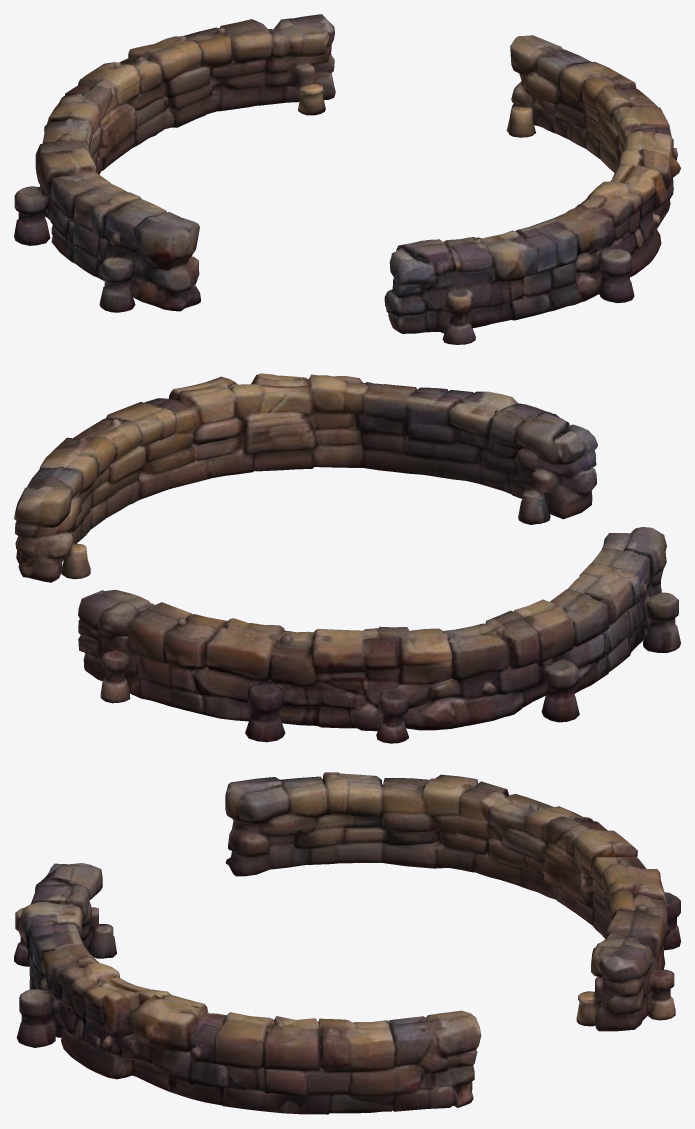
File: dragao_borda.glb
3 renders of one model, top to bottom at view 1: azimuth 30°, elevation 25°; view 2: azimuth 150°, elevation 25°; view 3: azimuth 270°, elevation 25°, orthographic. The views are drawn at different scales.
Visible parts, largest first — view 1: tripo_node_1d7f6cbe-8472-4f99-b9f5-d42b2ff15f5a; view 2: tripo_node_1d7f6cbe-8472-4f99-b9f5-d42b2ff15f5a; view 3: tripo_node_1d7f6cbe-8472-4f99-b9f5-d42b2ff15f5a.
Boxes of the visible parts, bbox=[...] form: tripo_node_1d7f6cbe-8472-4f99-b9f5-d42b2ff15f5a: bbox=[14, 14, 680, 344]; tripo_node_1d7f6cbe-8472-4f99-b9f5-d42b2ff15f5a: bbox=[14, 373, 680, 743]; tripo_node_1d7f6cbe-8472-4f99-b9f5-d42b2ff15f5a: bbox=[14, 772, 680, 1114].
Size of the model in its own units: 0.9793 by 0.1475 by 0.9793.
1 material, 1 textured.
